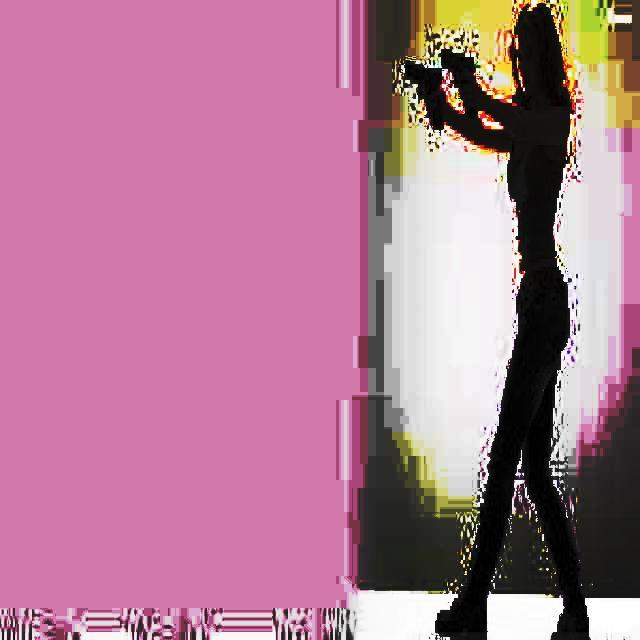Gun: (431, 41, 495, 106), (398, 57, 449, 129)
